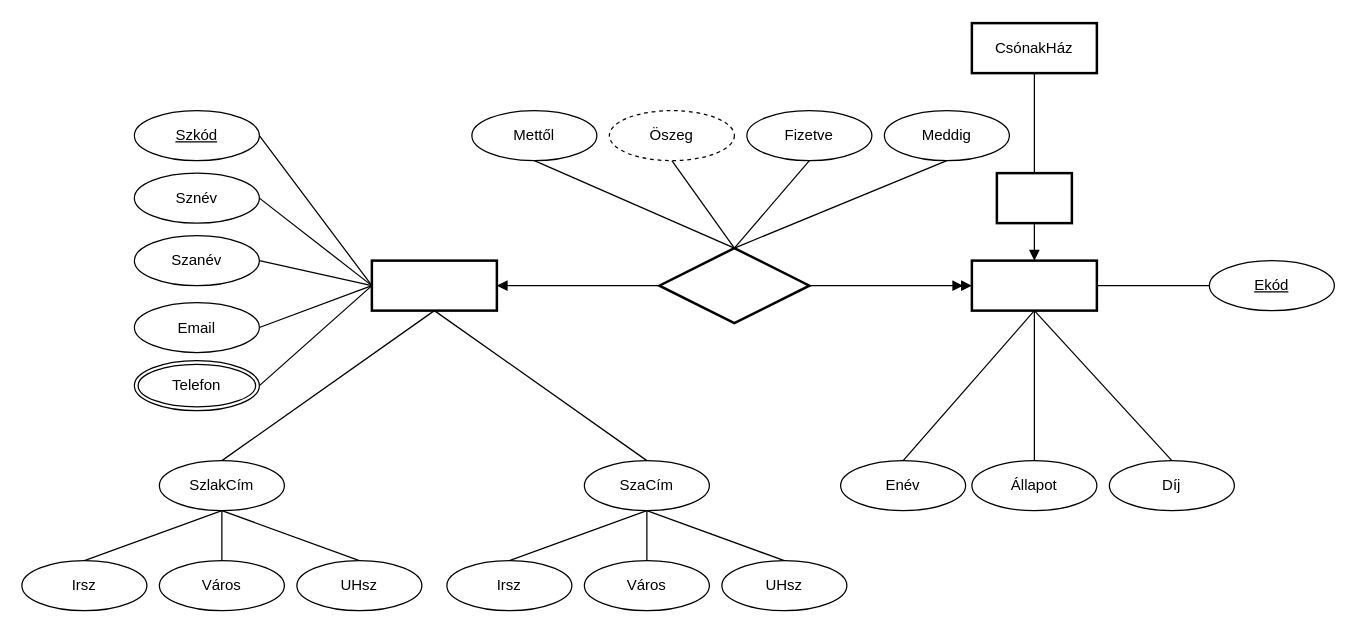
Image size: 1356x633. Some labels were removed from this diagram. The centre of each missing label's shape, as x and y in pixels:
"Eszköz" goes at (1034,285).
"HAS_A" goes at (1033,197).
"Kölcsönzés" goes at (734,285).
"Személy" goes at (434,285).
